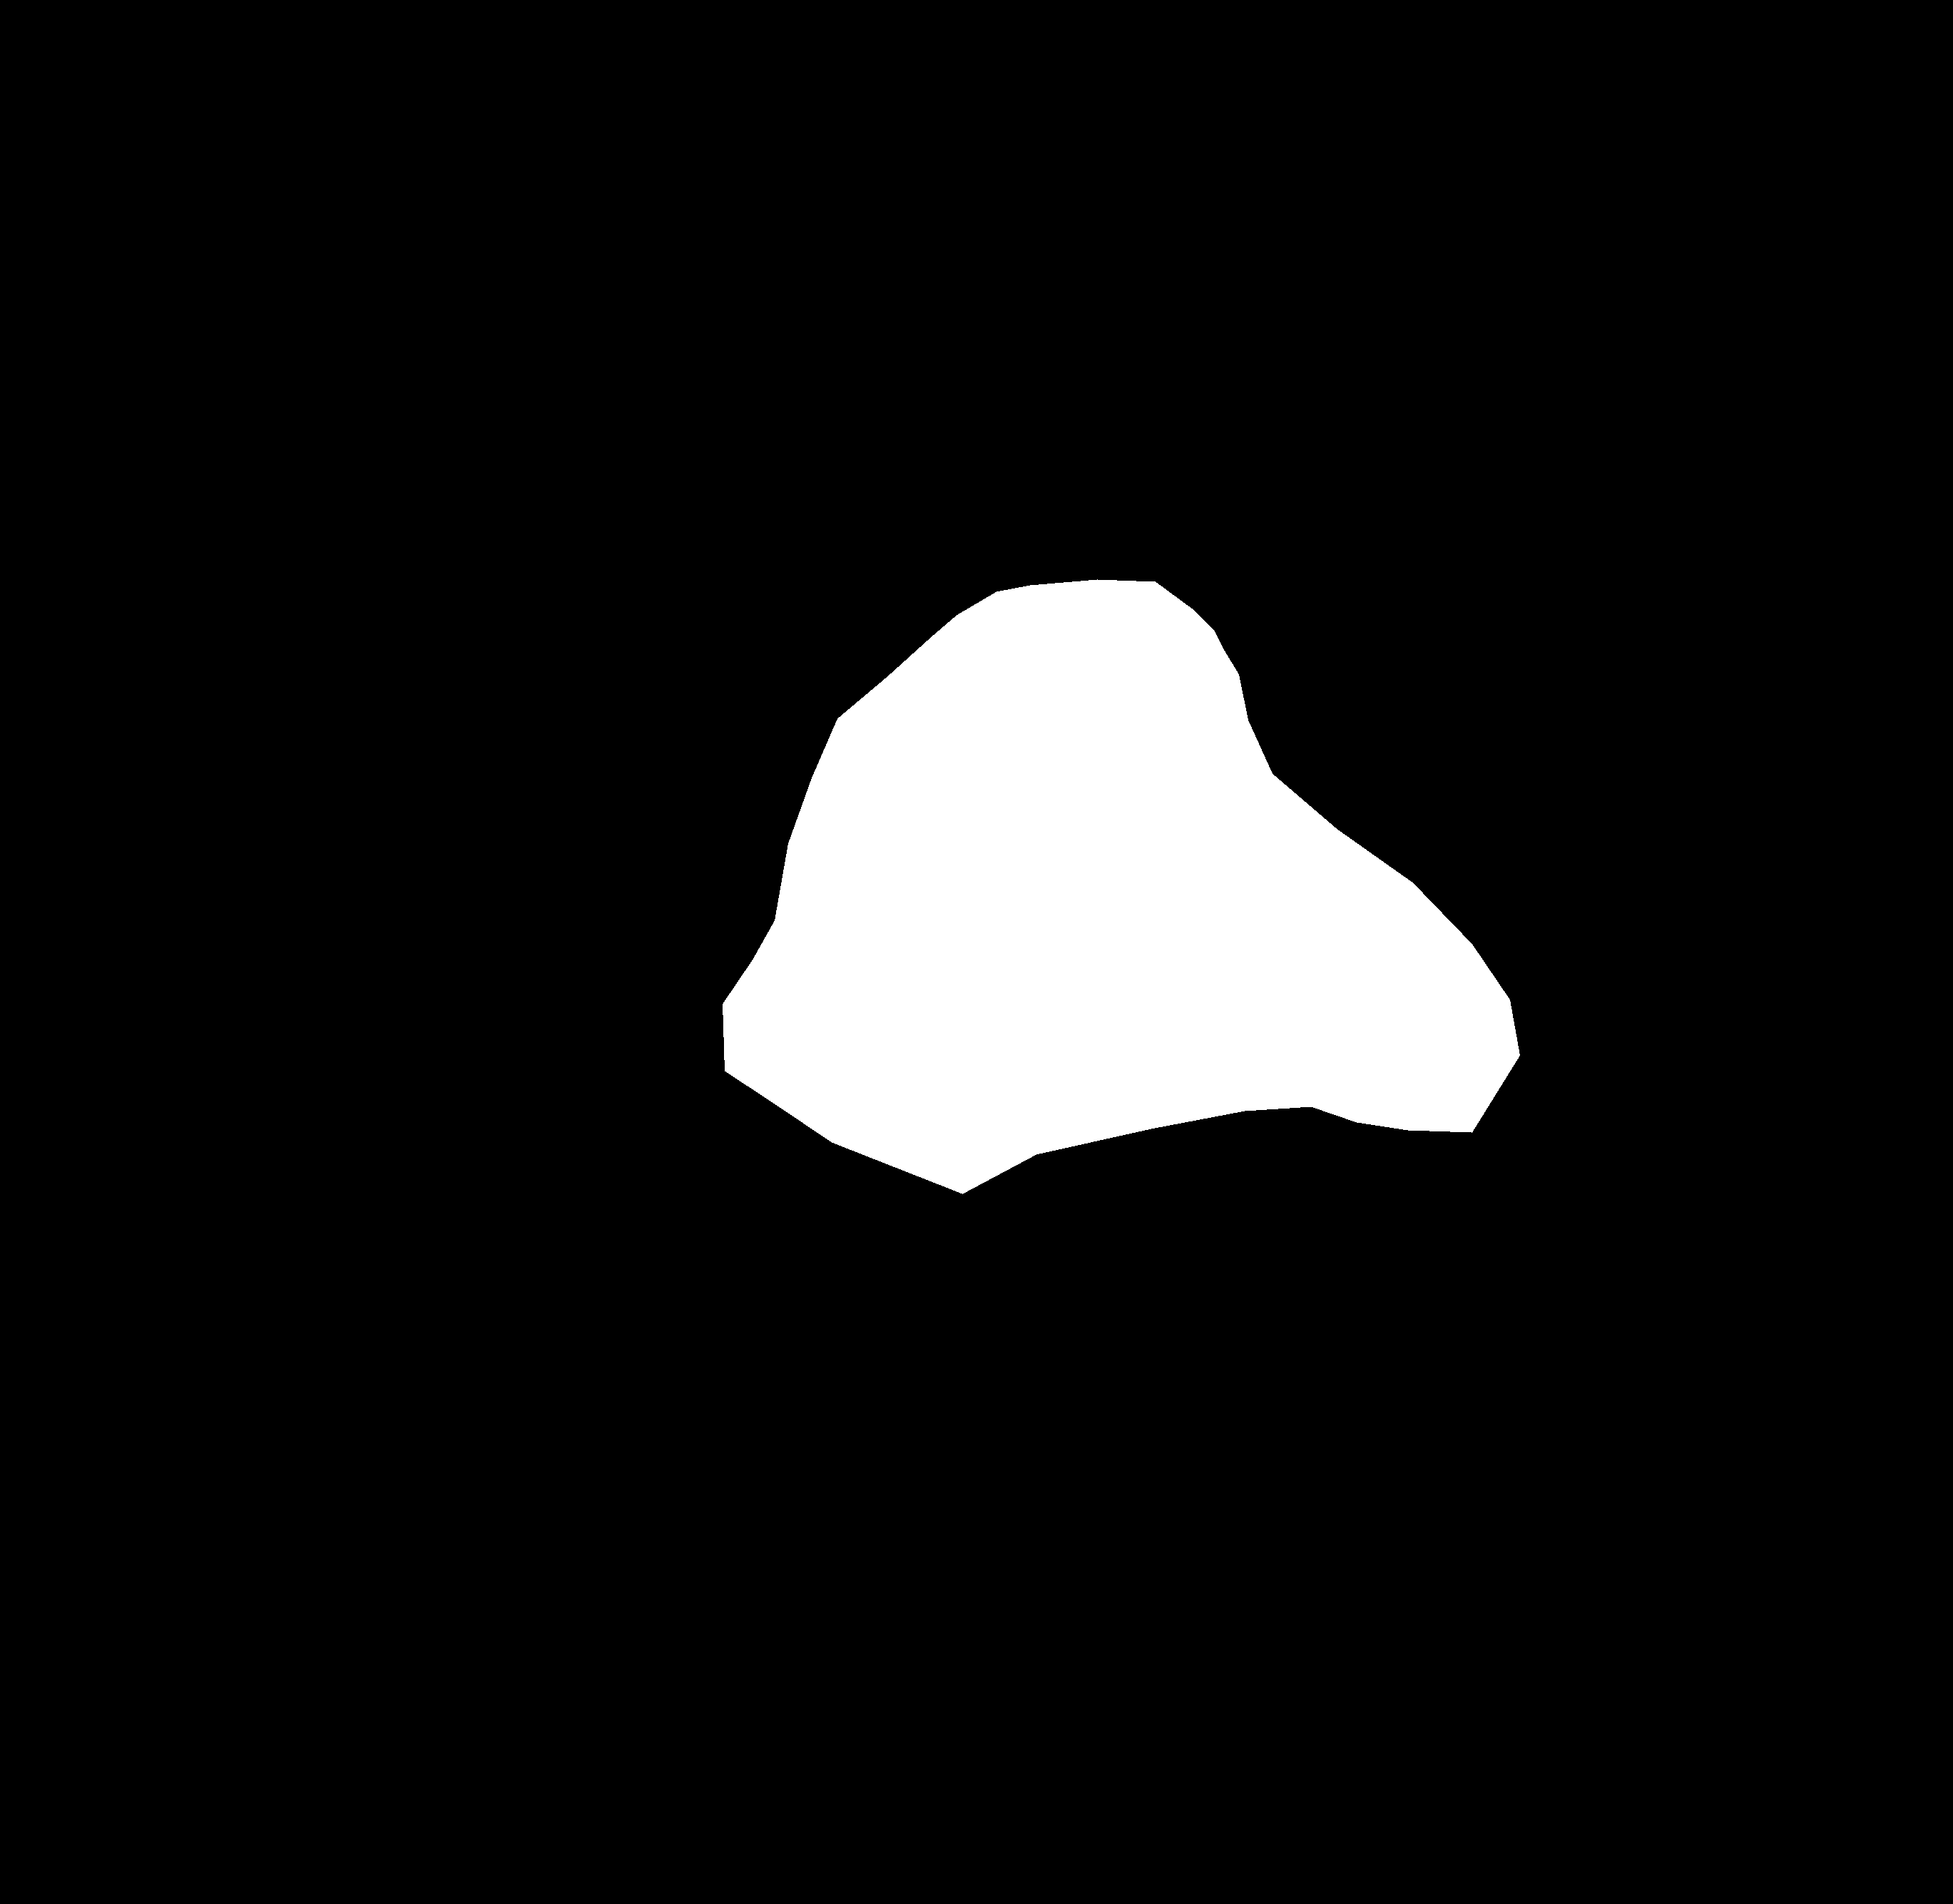heart: (722, 579, 1519, 1193)
left_lung: (377, 120, 963, 1248)
right_lung: (1097, 131, 1677, 1175)
